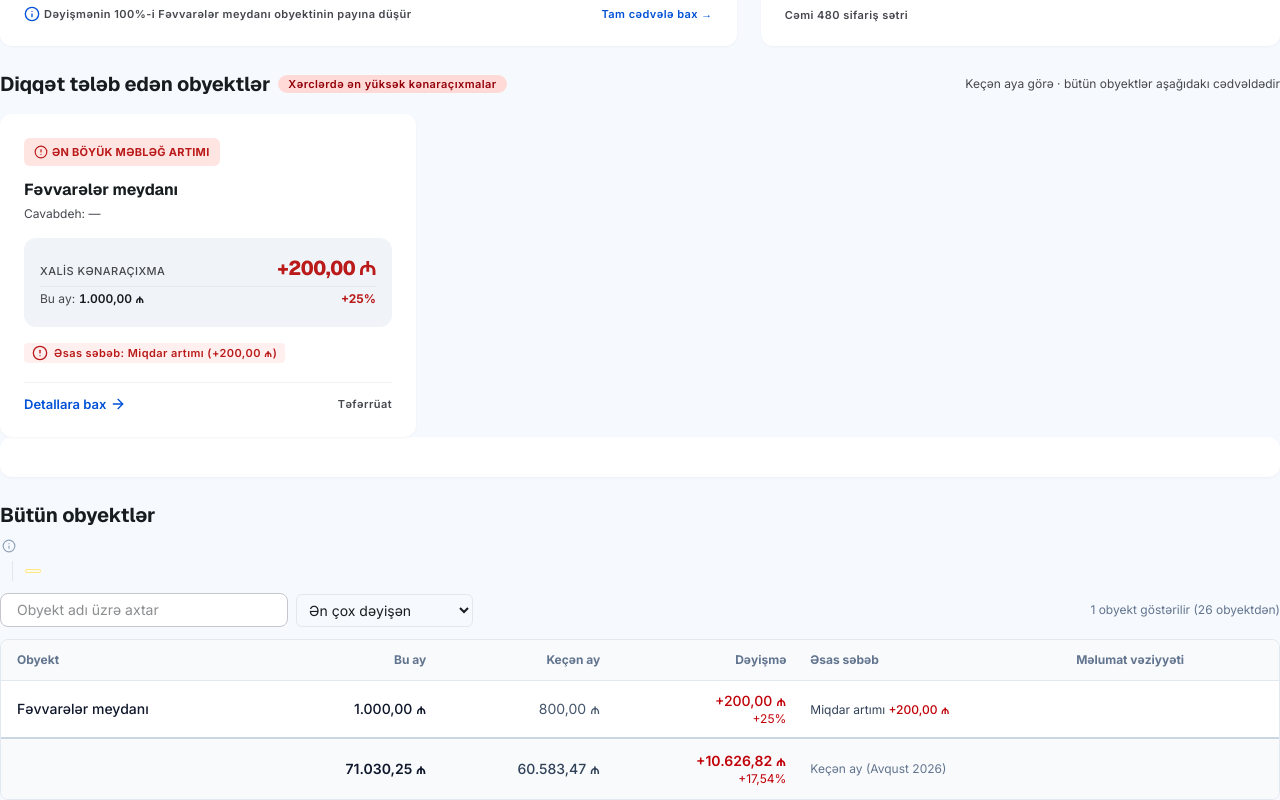
Test: the detail beside the page › opens the decomposition of the object from the card that raised the question
This screenshot has width=1280, height=800.
(page scrolled)
Click the button with aria-label "Fəvvarələr meydanı — təfərrüat": (365, 404) [338, 397, 392, 411]
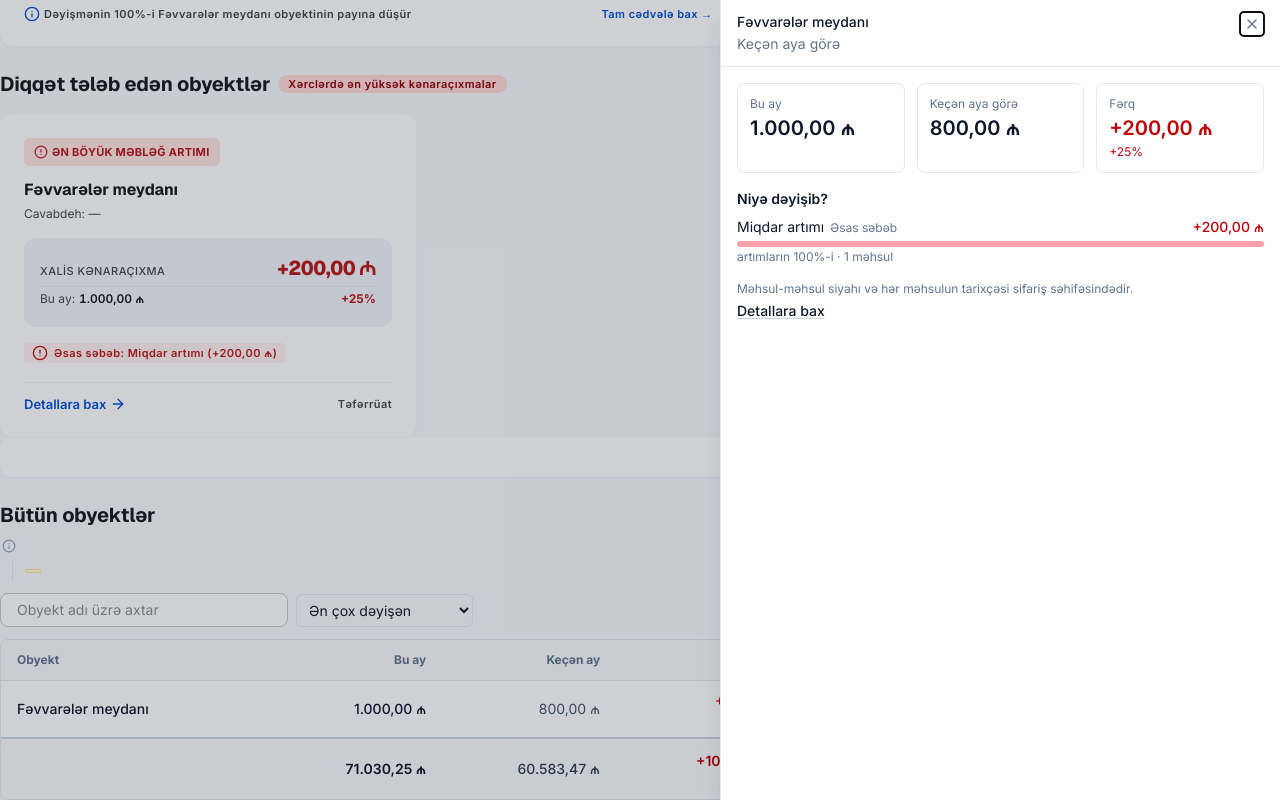
Now the element named "Rəqəmlər" shows "1.000,00 ₼", box [750, 116, 856, 140]
Now the element "Niyə dəyişib?" shows "Miqdar artımı", box [737, 218, 824, 235]
